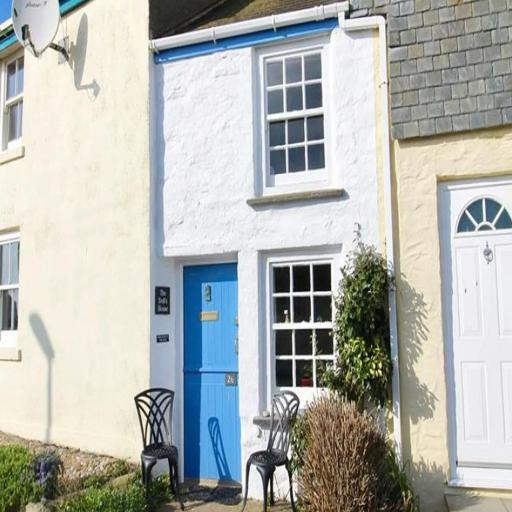door: (169, 263, 257, 512)
